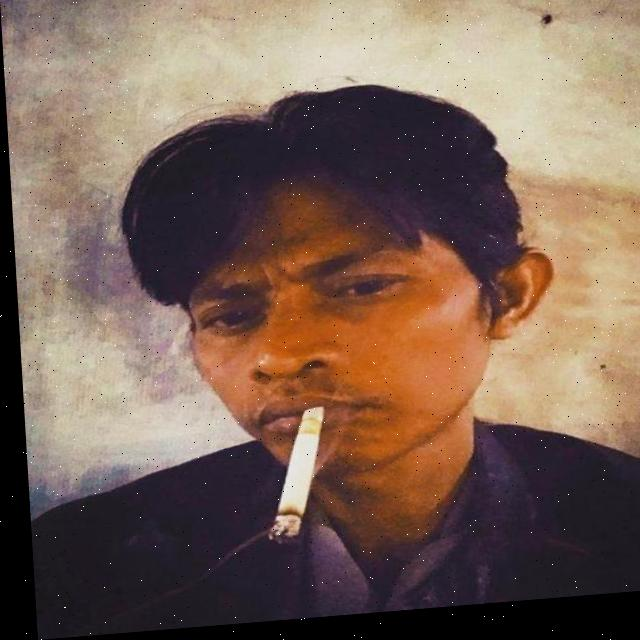cigarette: (257, 412, 326, 546)
